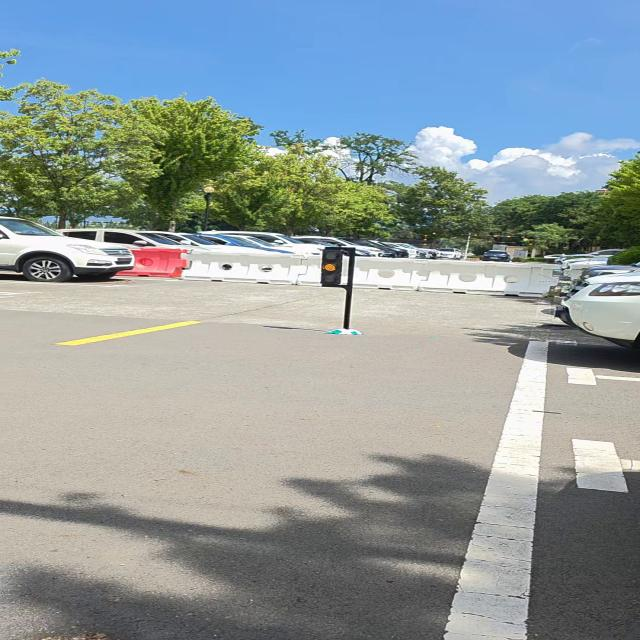yellow: (320, 249, 344, 286)
